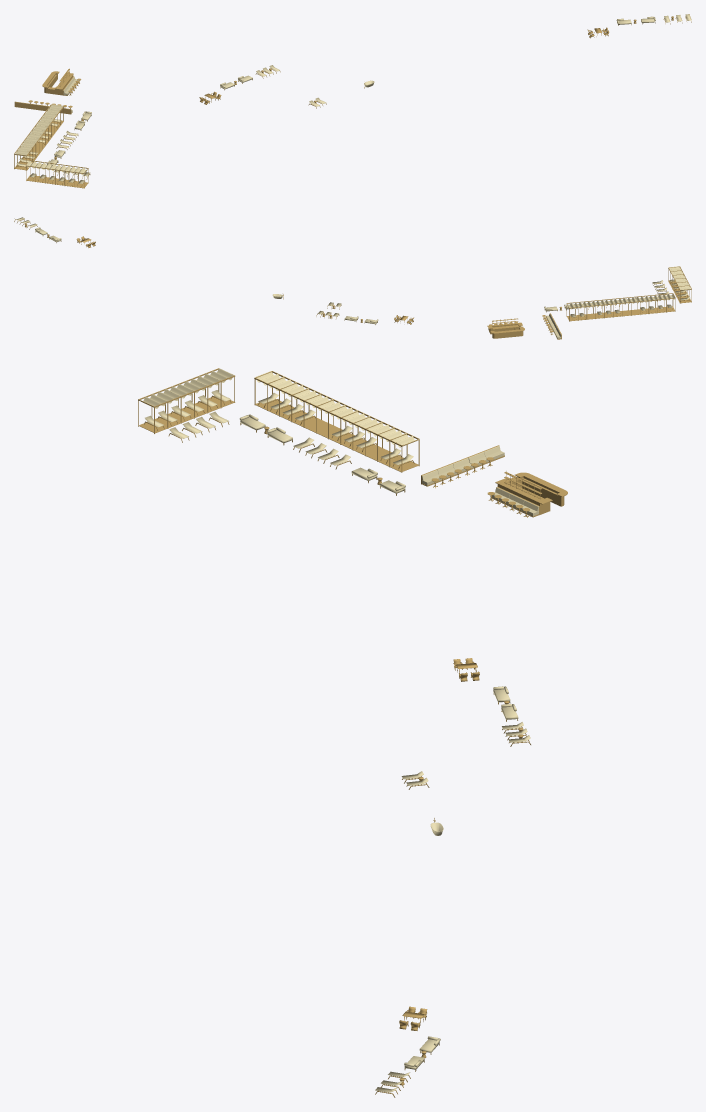
The model's file is Furniture.glb.
The picture shows the model from 3 angles, top to bottom: view 1: azimuth 30°, elevation 25°; view 2: azimuth 150°, elevation 25°; view 3: azimuth 270°, elevation 25°; orthographic projection. The views are drawn at different scales.
Parts seen in each view (by area): view 1: FU_Wood, FU_Wall; view 2: FU_Wood, FU_Wall; view 3: FU_Wall, FU_Wood.
Boxes of the visible parts, box(x1,y1,x2,y2) form: FU_Wood: box(14, 16, 691, 188); FU_Wall: box(15, 14, 691, 183); FU_Wood: box(14, 219, 691, 339); FU_Wall: box(14, 217, 690, 338); FU_Wall: box(140, 368, 538, 1092); FU_Wood: box(138, 368, 567, 1097).
Size of the model in its own units: 121 by 10.52 by 35.59.
